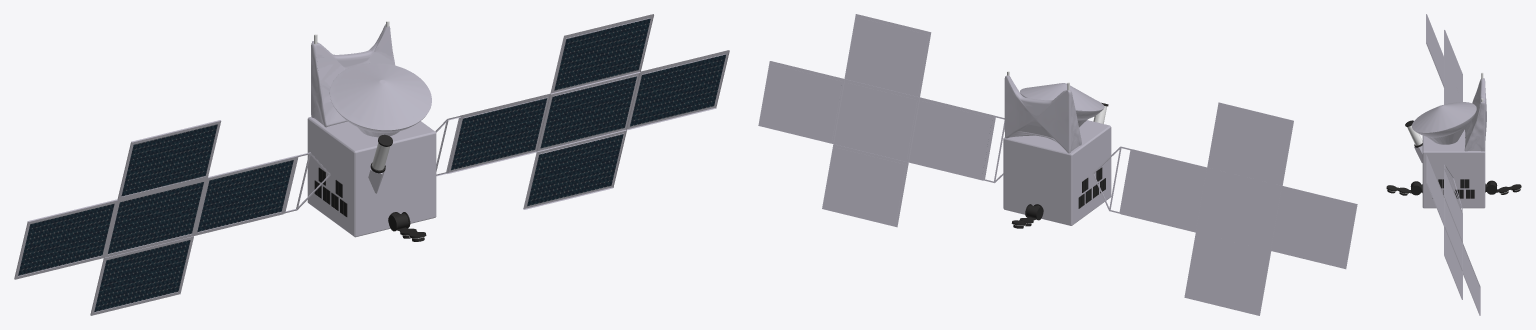
The model's file is orbit-orbiter-transformed.glb.
3 views of the same model, side by side, from view 1: azimuth 30°, elevation 25°; view 2: azimuth 150°, elevation 25°; view 3: azimuth 270°, elevation 25° (orthographic). The views are drawn at different scales.
Parts seen in each view (by area): view 1: SolarPanel.4, orbiter.005, orbiter.006, orbiter.4, orbiter.002; view 2: SolarPanel.4, orbiter.005, orbiter.4, orbiter.006, orbiter.002; view 3: SolarPanel.4, orbiter.005, orbiter.006, orbiter.4, orbiter.002, orbiter.003.
Part boxes in pixels (x1,y1,x2,y2): SolarPanel.4: [14, 14, 729, 315]; orbiter.005: [307, 117, 436, 237]; orbiter.006: [329, 63, 431, 137]; orbiter.4: [311, 24, 395, 127]; orbiter.002: [314, 134, 426, 241]; SolarPanel.4: [758, 14, 1357, 315]; orbiter.005: [1003, 120, 1111, 225]; orbiter.4: [1004, 75, 1081, 153]; orbiter.006: [1020, 83, 1104, 127]; orbiter.002: [1012, 102, 1108, 228]; SolarPanel.4: [1426, 14, 1480, 315]; orbiter.005: [1414, 129, 1485, 208]; orbiter.006: [1412, 102, 1476, 144]; orbiter.4: [1464, 78, 1486, 151]; orbiter.002: [1386, 120, 1521, 198]; orbiter.003: [1386, 72, 1521, 193].
Size of the model in its own units: 4.9 by 1.5 by 1.25.
Materials: 6 (1 with a texture image).
